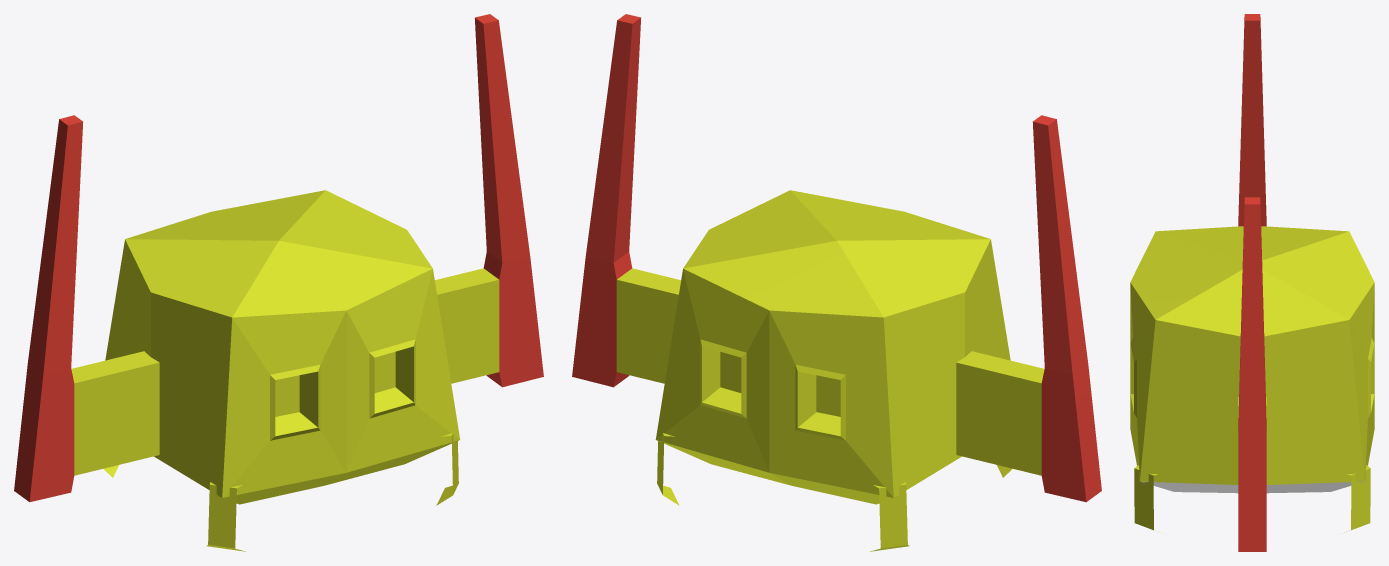
Rendered from EnemyShip.fbx.
3 renders of one model, left to right at view 1: azimuth 30°, elevation 25°; view 2: azimuth 150°, elevation 25°; view 3: azimuth 270°, elevation 25°, orthographic. The views are drawn at different scales.
Visible parts, largest first — view 1: ship; view 2: ship; view 3: ship.
Part boxes in pixels (box(x1,y1,x2,y2)): ship: box(14, 14, 543, 551); ship: box(572, 14, 1101, 551); ship: box(1130, 14, 1374, 551).
Size of the model in its own units: 1165 by 895 by 530.
